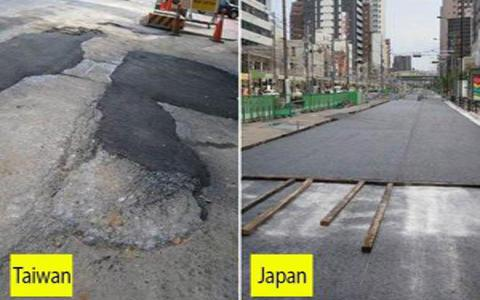Proper road: (242, 118, 478, 182)
